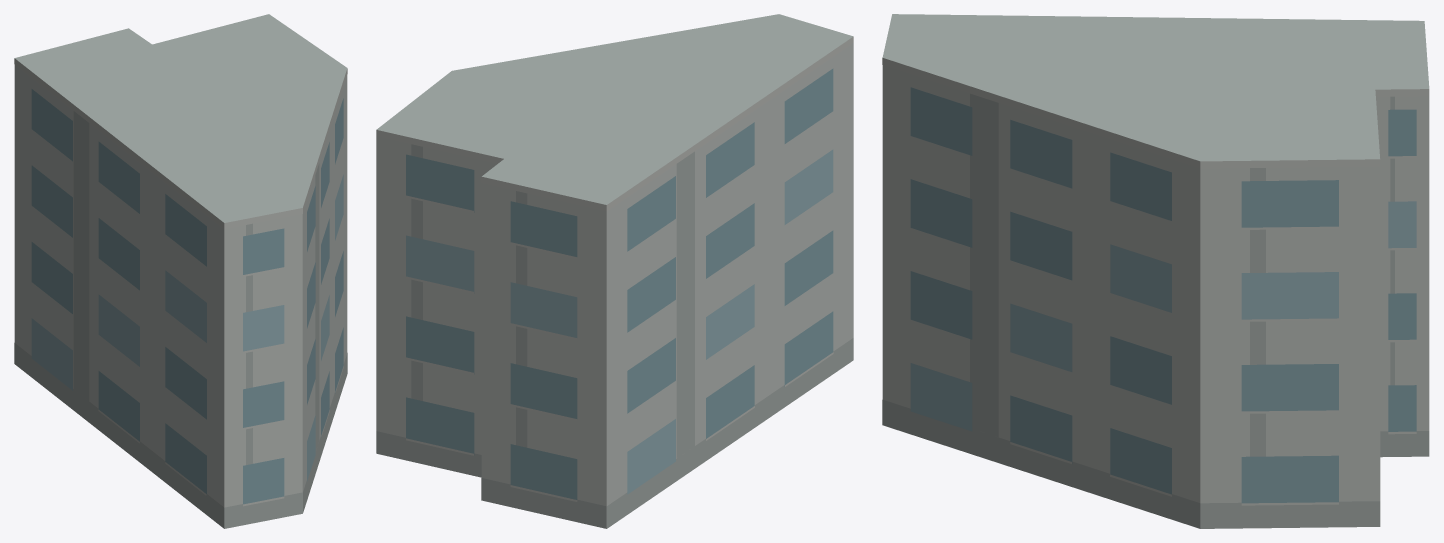
File: residential-52929bbe-5125-49f7-9921-7073143476c4.glb
3 views of the same model, side by side, from view 1: azimuth 30°, elevation 25°; view 2: azimuth 150°, elevation 25°; view 3: azimuth 270°, elevation 25° (orthographic). The views are drawn at different scales.
Parts seen in each view (by area): view 1: residential-52929bbe-5125-49f7-9921-7073143476c4.tmp; view 2: residential-52929bbe-5125-49f7-9921-7073143476c4.tmp; view 3: residential-52929bbe-5125-49f7-9921-7073143476c4.tmp.
Boxes of the visible parts, x1,y1,x2,y2 form: residential-52929bbe-5125-49f7-9921-7073143476c4.tmp: [14, 14, 347, 528]; residential-52929bbe-5125-49f7-9921-7073143476c4.tmp: [376, 14, 853, 528]; residential-52929bbe-5125-49f7-9921-7073143476c4.tmp: [882, 14, 1429, 528].
Bounding box in the file's own units: 10.5 × 12.2 × 16.46.
